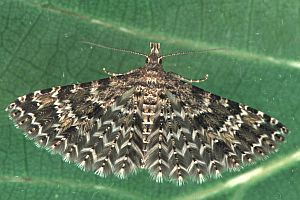Alucitidae: (1, 39, 290, 189)
moth: (3, 41, 292, 191)
